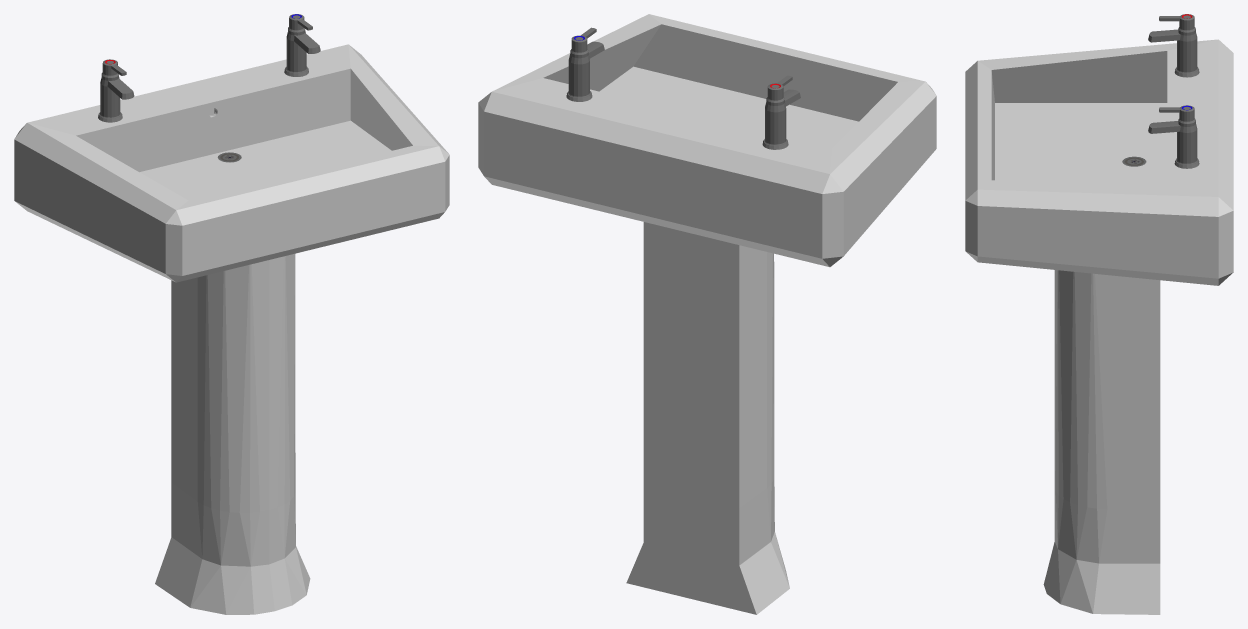
Rendered from sink.glb.
3 renders of one model, left to right at view 1: azimuth 30°, elevation 25°; view 2: azimuth 150°, elevation 25°; view 3: azimuth 270°, elevation 25°, orthographic. The views are drawn at different scales.
Parts seen in each view (by area): view 1: Merged; view 2: Merged; view 3: Merged.
Boxes of the visible parts, left/top/right/bottom form: Merged: left=14, top=14, right=449, bottom=614; Merged: left=478, top=14, right=936, bottom=614; Merged: left=965, top=14, right=1233, bottom=614.
Bounding box in the file's own units: 1.88 × 2.68 × 1.25.
Materials: 5 (1 with a texture image).
